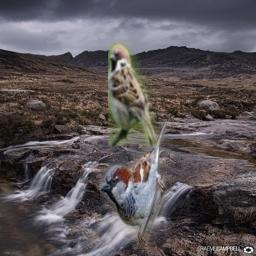Sparrow: (100, 119, 167, 249), (108, 43, 157, 146)
